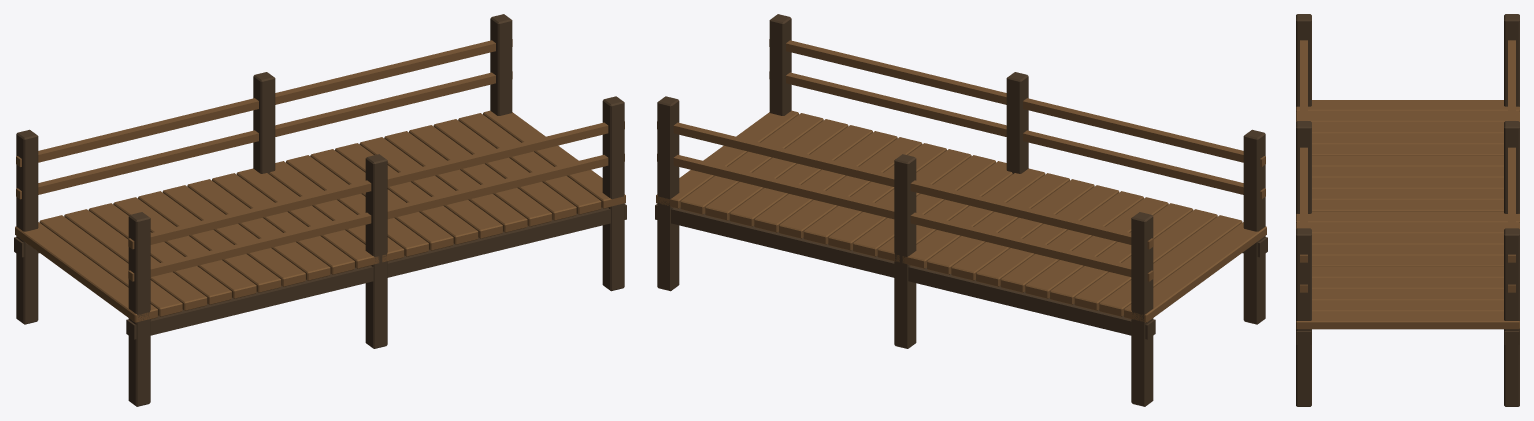
The model's file is wooden_bridge.glb.
The picture shows the model from 3 angles, left to right: view 1: azimuth 30°, elevation 25°; view 2: azimuth 150°, elevation 25°; view 3: azimuth 270°, elevation 25°; orthographic projection. The views are drawn at different scales.
Visible parts, largest first — view 1: wooden_bridge; view 2: wooden_bridge; view 3: wooden_bridge.
Boxes of the visible parts, x1,y1,x2,y2 form: wooden_bridge: (14, 14, 626, 406); wooden_bridge: (655, 14, 1267, 406); wooden_bridge: (1296, 14, 1519, 406).
Size of the model in its own units: 8 by 2.9 by 3.4.
